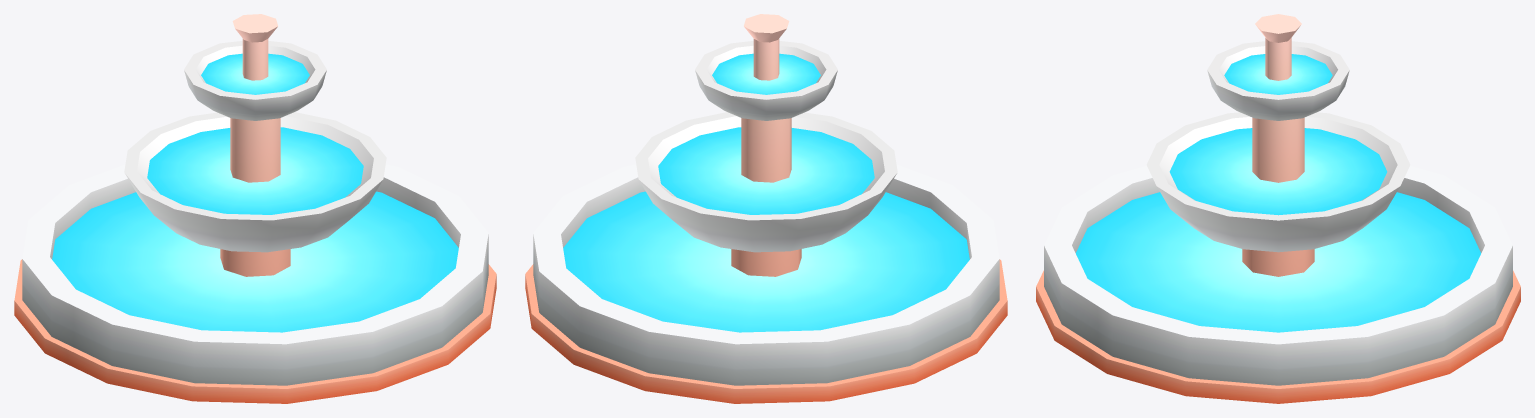
File: city2-fountain-01.glb
3 views of the same model, side by side, from view 1: azimuth 30°, elevation 25°; view 2: azimuth 150°, elevation 25°; view 3: azimuth 270°, elevation 25° (orthographic).
Visible parts, largest first — view 1: Fountain_01; view 2: Fountain_01; view 3: Fountain_01.
Part boxes in pixels (<box>): Fountain_01: <box>14,14,496,403</box>; Fountain_01: <box>525,14,1007,403</box>; Fountain_01: <box>1036,14,1520,403</box>.
Size of the model in its own units: 5.88 by 3.72 by 5.88.
1 material, 1 textured.
